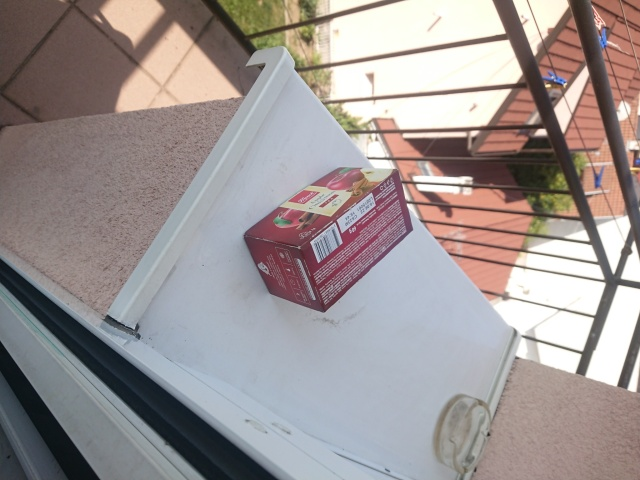Franck Apple Cinnamon Tea 60g: (241, 163, 415, 314)
